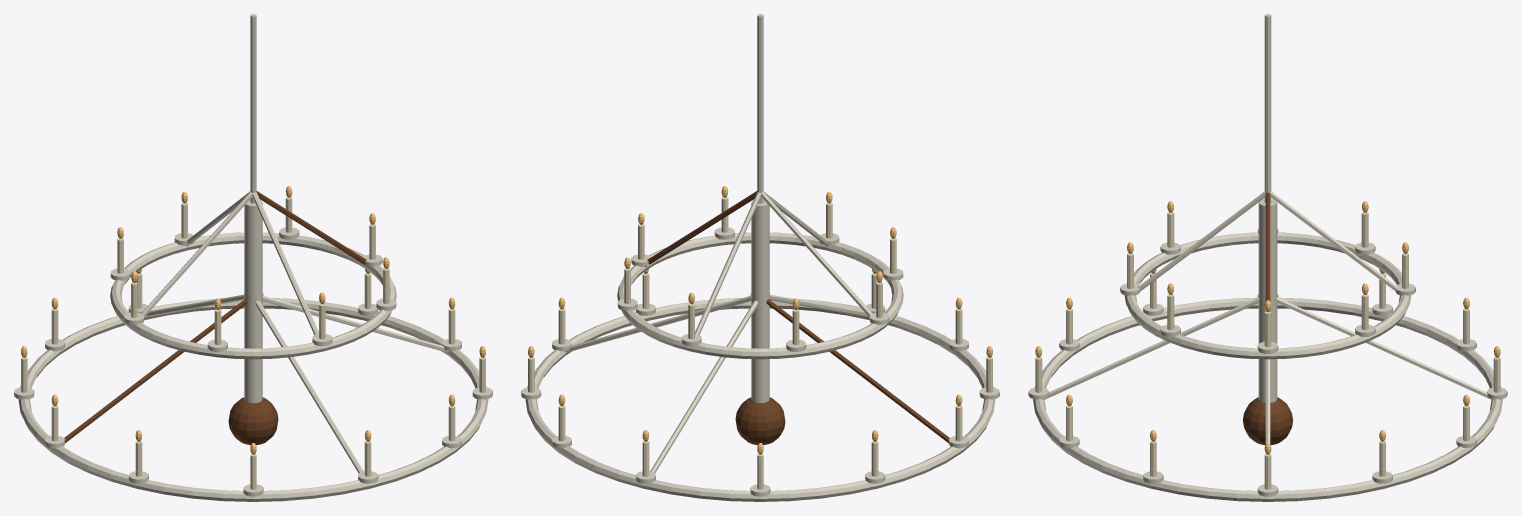
File: chandelier_iron.glb
3 views of the same model, side by side, from view 1: azimuth 30°, elevation 25°; view 2: azimuth 150°, elevation 25°; view 3: azimuth 270°, elevation 25° (orthographic).
Parts seen in each view (by area): view 1: Torus, Torus.001, schaft, Sphere, kette, strebe-1.856, strebe-1.859, strebe-1.850, strebe-1.356, strebe-1.354, strebe-1.350, strebe-1.853; view 2: Torus, Torus.001, schaft, Sphere, kette, strebe-1.856, strebe-1.853, strebe-1.850, strebe-1.352, strebe-1.354, strebe-1.350, strebe-1.859; view 3: Torus, Torus.001, schaft, Sphere, kette, strebe-1.853, strebe-1.859, strebe-1.352, strebe-1.356, strebe-1.350.
Boxes of the visible parts, x1,y1,x2,y2 form: Torus: (18, 298, 488, 501); Torus.001: (110, 232, 396, 359); schaft: (244, 199, 262, 403); Sphere: (228, 397, 278, 445); kette: (250, 14, 256, 203); strebe-1.856: (64, 299, 247, 443); strebe-1.859: (255, 300, 363, 473); strebe-1.850: (262, 295, 448, 352); strebe-1.356: (252, 192, 318, 335); strebe-1.354: (140, 191, 252, 316); strebe-1.350: (256, 191, 368, 266); strebe-1.853: (144, 294, 244, 317); Torus: (525, 298, 995, 501); Torus.001: (617, 232, 903, 359); schaft: (751, 199, 769, 403); Sphere: (735, 397, 785, 445); kette: (757, 14, 763, 203); strebe-1.856: (766, 299, 949, 443); strebe-1.853: (650, 300, 758, 473); strebe-1.850: (565, 295, 751, 352); strebe-1.352: (695, 192, 761, 335); strebe-1.354: (761, 191, 873, 316); strebe-1.350: (645, 191, 757, 266); strebe-1.859: (769, 294, 869, 317); Torus: (1033, 297, 1502, 501); Torus.001: (1124, 232, 1411, 359); schaft: (1258, 199, 1277, 402); Sphere: (1243, 397, 1292, 445); kette: (1264, 14, 1271, 202); strebe-1.853: (1276, 297, 1491, 399); strebe-1.859: (1044, 297, 1259, 399); strebe-1.352: (1270, 191, 1398, 291); strebe-1.356: (1137, 191, 1265, 291); strebe-1.350: (1265, 192, 1270, 301).
Size of the model in its own units: 2.09 by 2.06 by 2.09.
